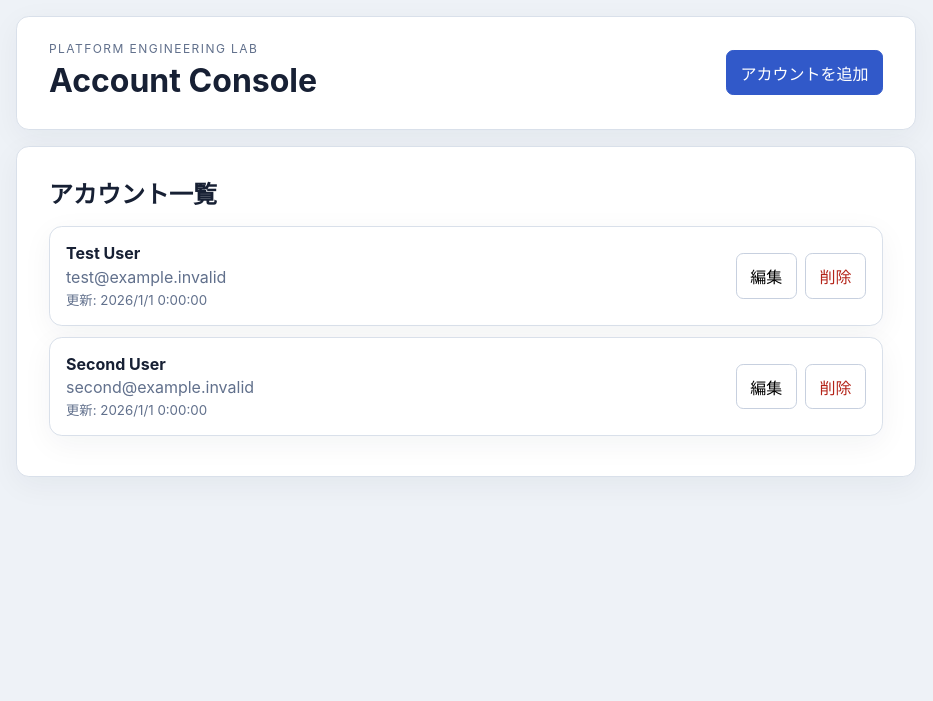
keeps a newer edit session open when an older save succeeds after cancel
Check: the text "Test User" is shown, box x1=66 y1=243 x2=140 y2=263
What coordinates should you click on to do the following:
click the button "編集" in the row of "Test User"
I would click on:
 (766, 276)
Its box is x1=736 y1=254 x2=797 y2=299.
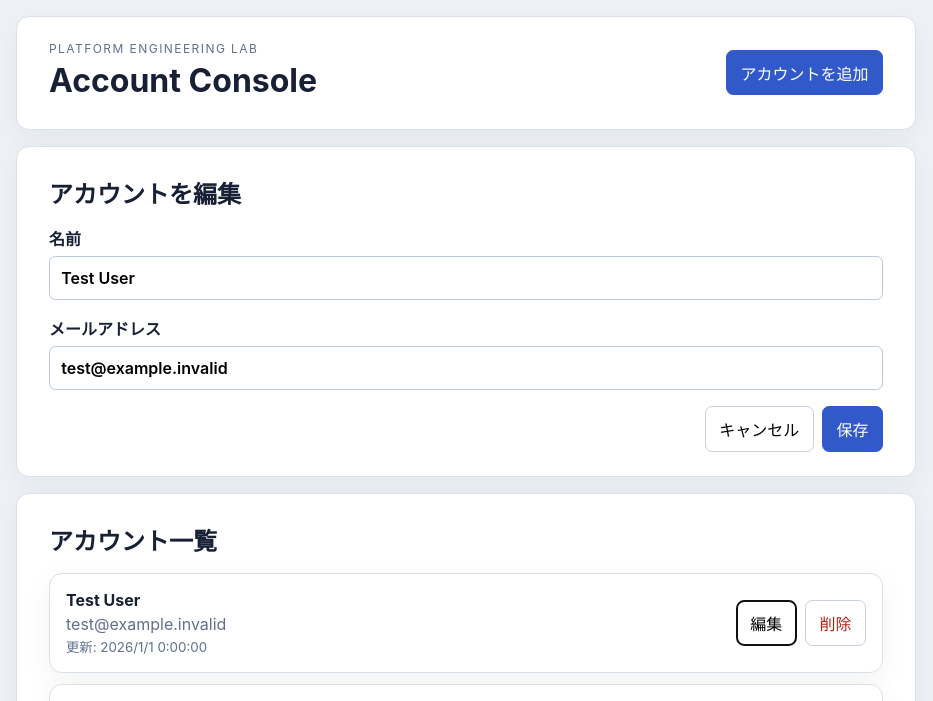
What coordinates should you click on to do the following:
click the button "保存"
I would click on:
 (852, 429)
Its box is x1=822 y1=406 x2=883 y2=452.
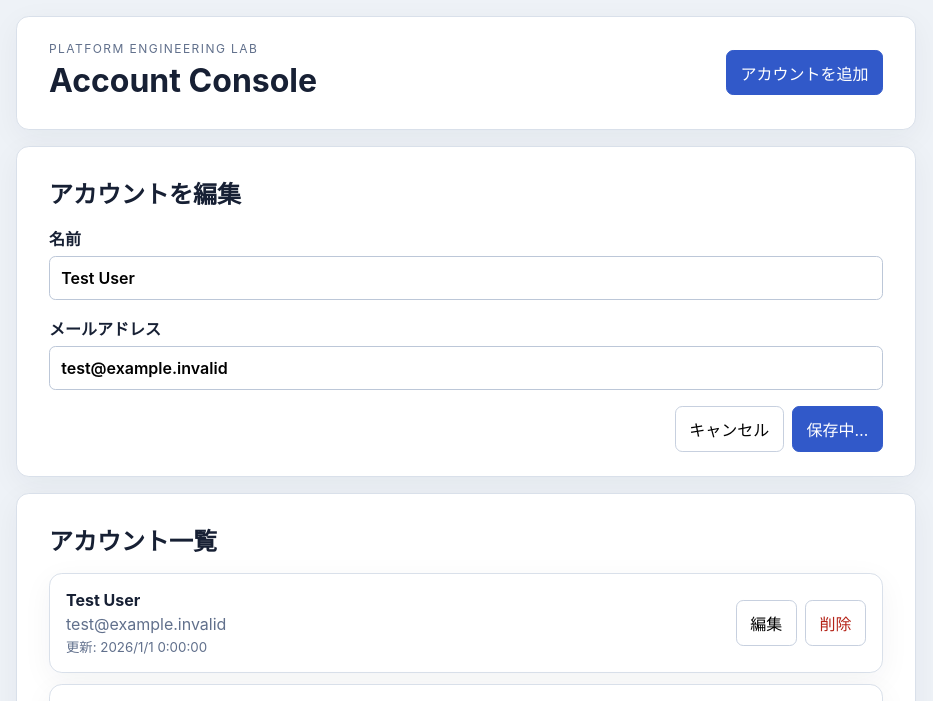
What coordinates should you click on to do the following:
click the button "キャンセル"
I would click on:
 (729, 429)
Its box is x1=675 y1=406 x2=784 y2=452.
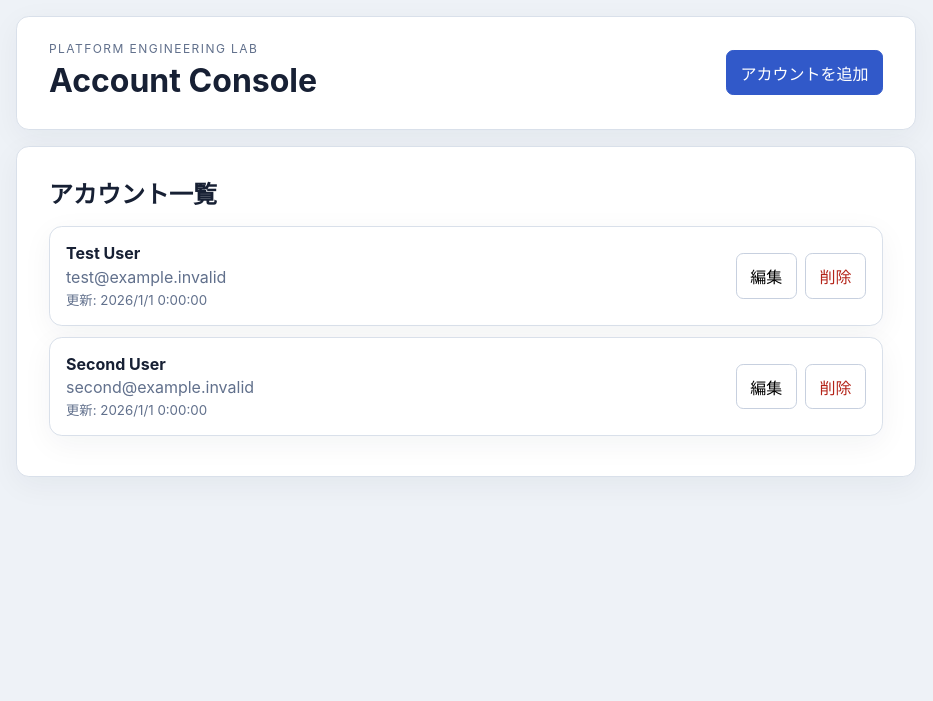
What coordinates should you click on to do the following:
click the button "編集" in the row of "Second User"
I would click on:
 (766, 387)
Its box is x1=736 y1=364 x2=797 y2=409.
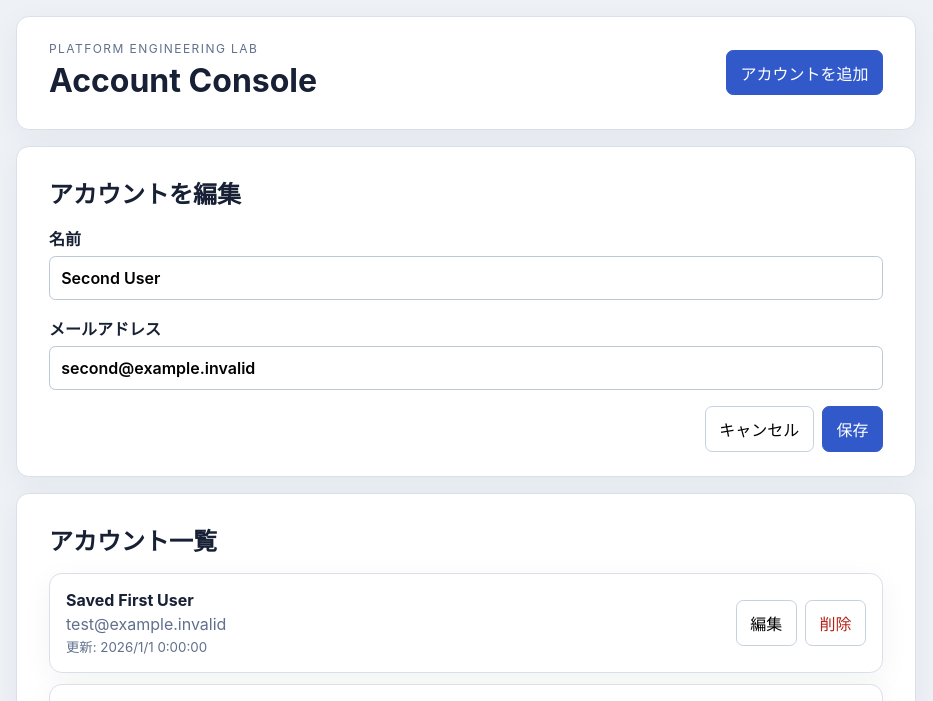
Check: the heading "アカウントを編集" is shown, box x1=49 y1=180 x2=241 y2=209
Check: the field labelled "名前" holds "Second User", box x1=49 y1=256 x2=883 y2=300
Check: the text "Saved First User" is shown, box x1=66 y1=590 x2=194 y2=610
